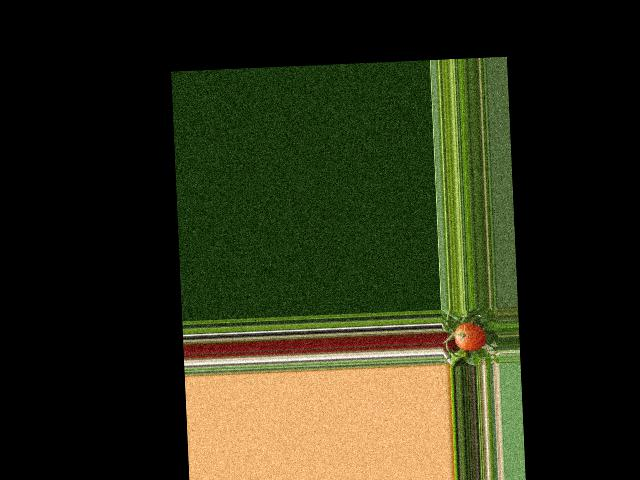tomato: (453, 322, 485, 351)
